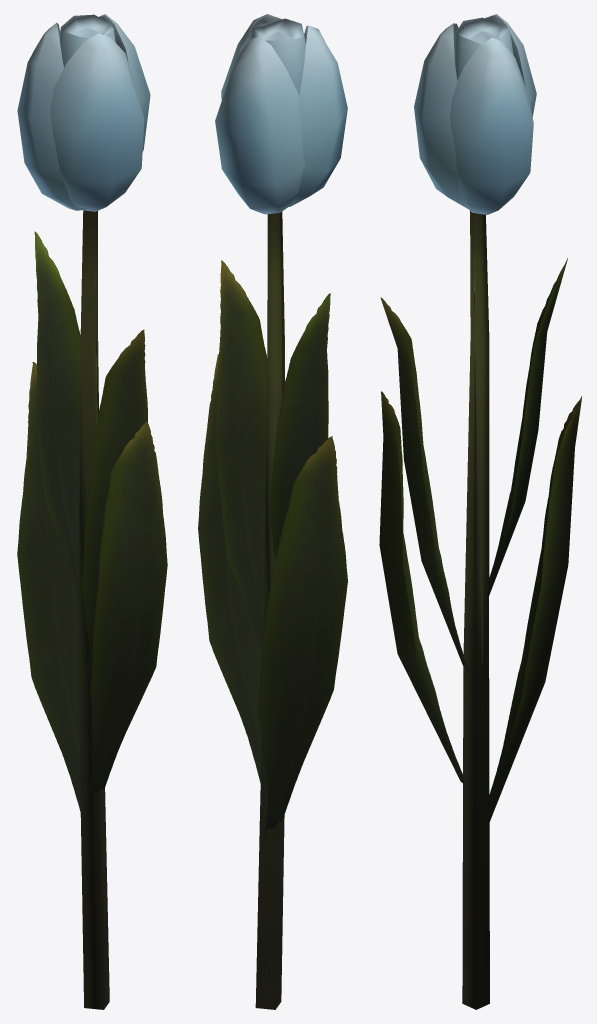
Rendered from Flower_B04.fbx.
The picture shows the model from 3 angles, left to right: view 1: azimuth 30°, elevation 25°; view 2: azimuth 210°, elevation 25°; view 3: azimuth 270°, elevation 25°; orthographic projection.
Visible parts, largest first — view 1: Flower_B04; view 2: Flower_B04; view 3: Flower_B04.
Boxes of the visible parts, x1,y1,x2,y2 form: Flower_B04: [17, 14, 167, 1009]; Flower_B04: [198, 14, 347, 1009]; Flower_B04: [379, 14, 581, 1009].
Bounding box in the file's own units: 4.77 × 37.82 × 7.15.
